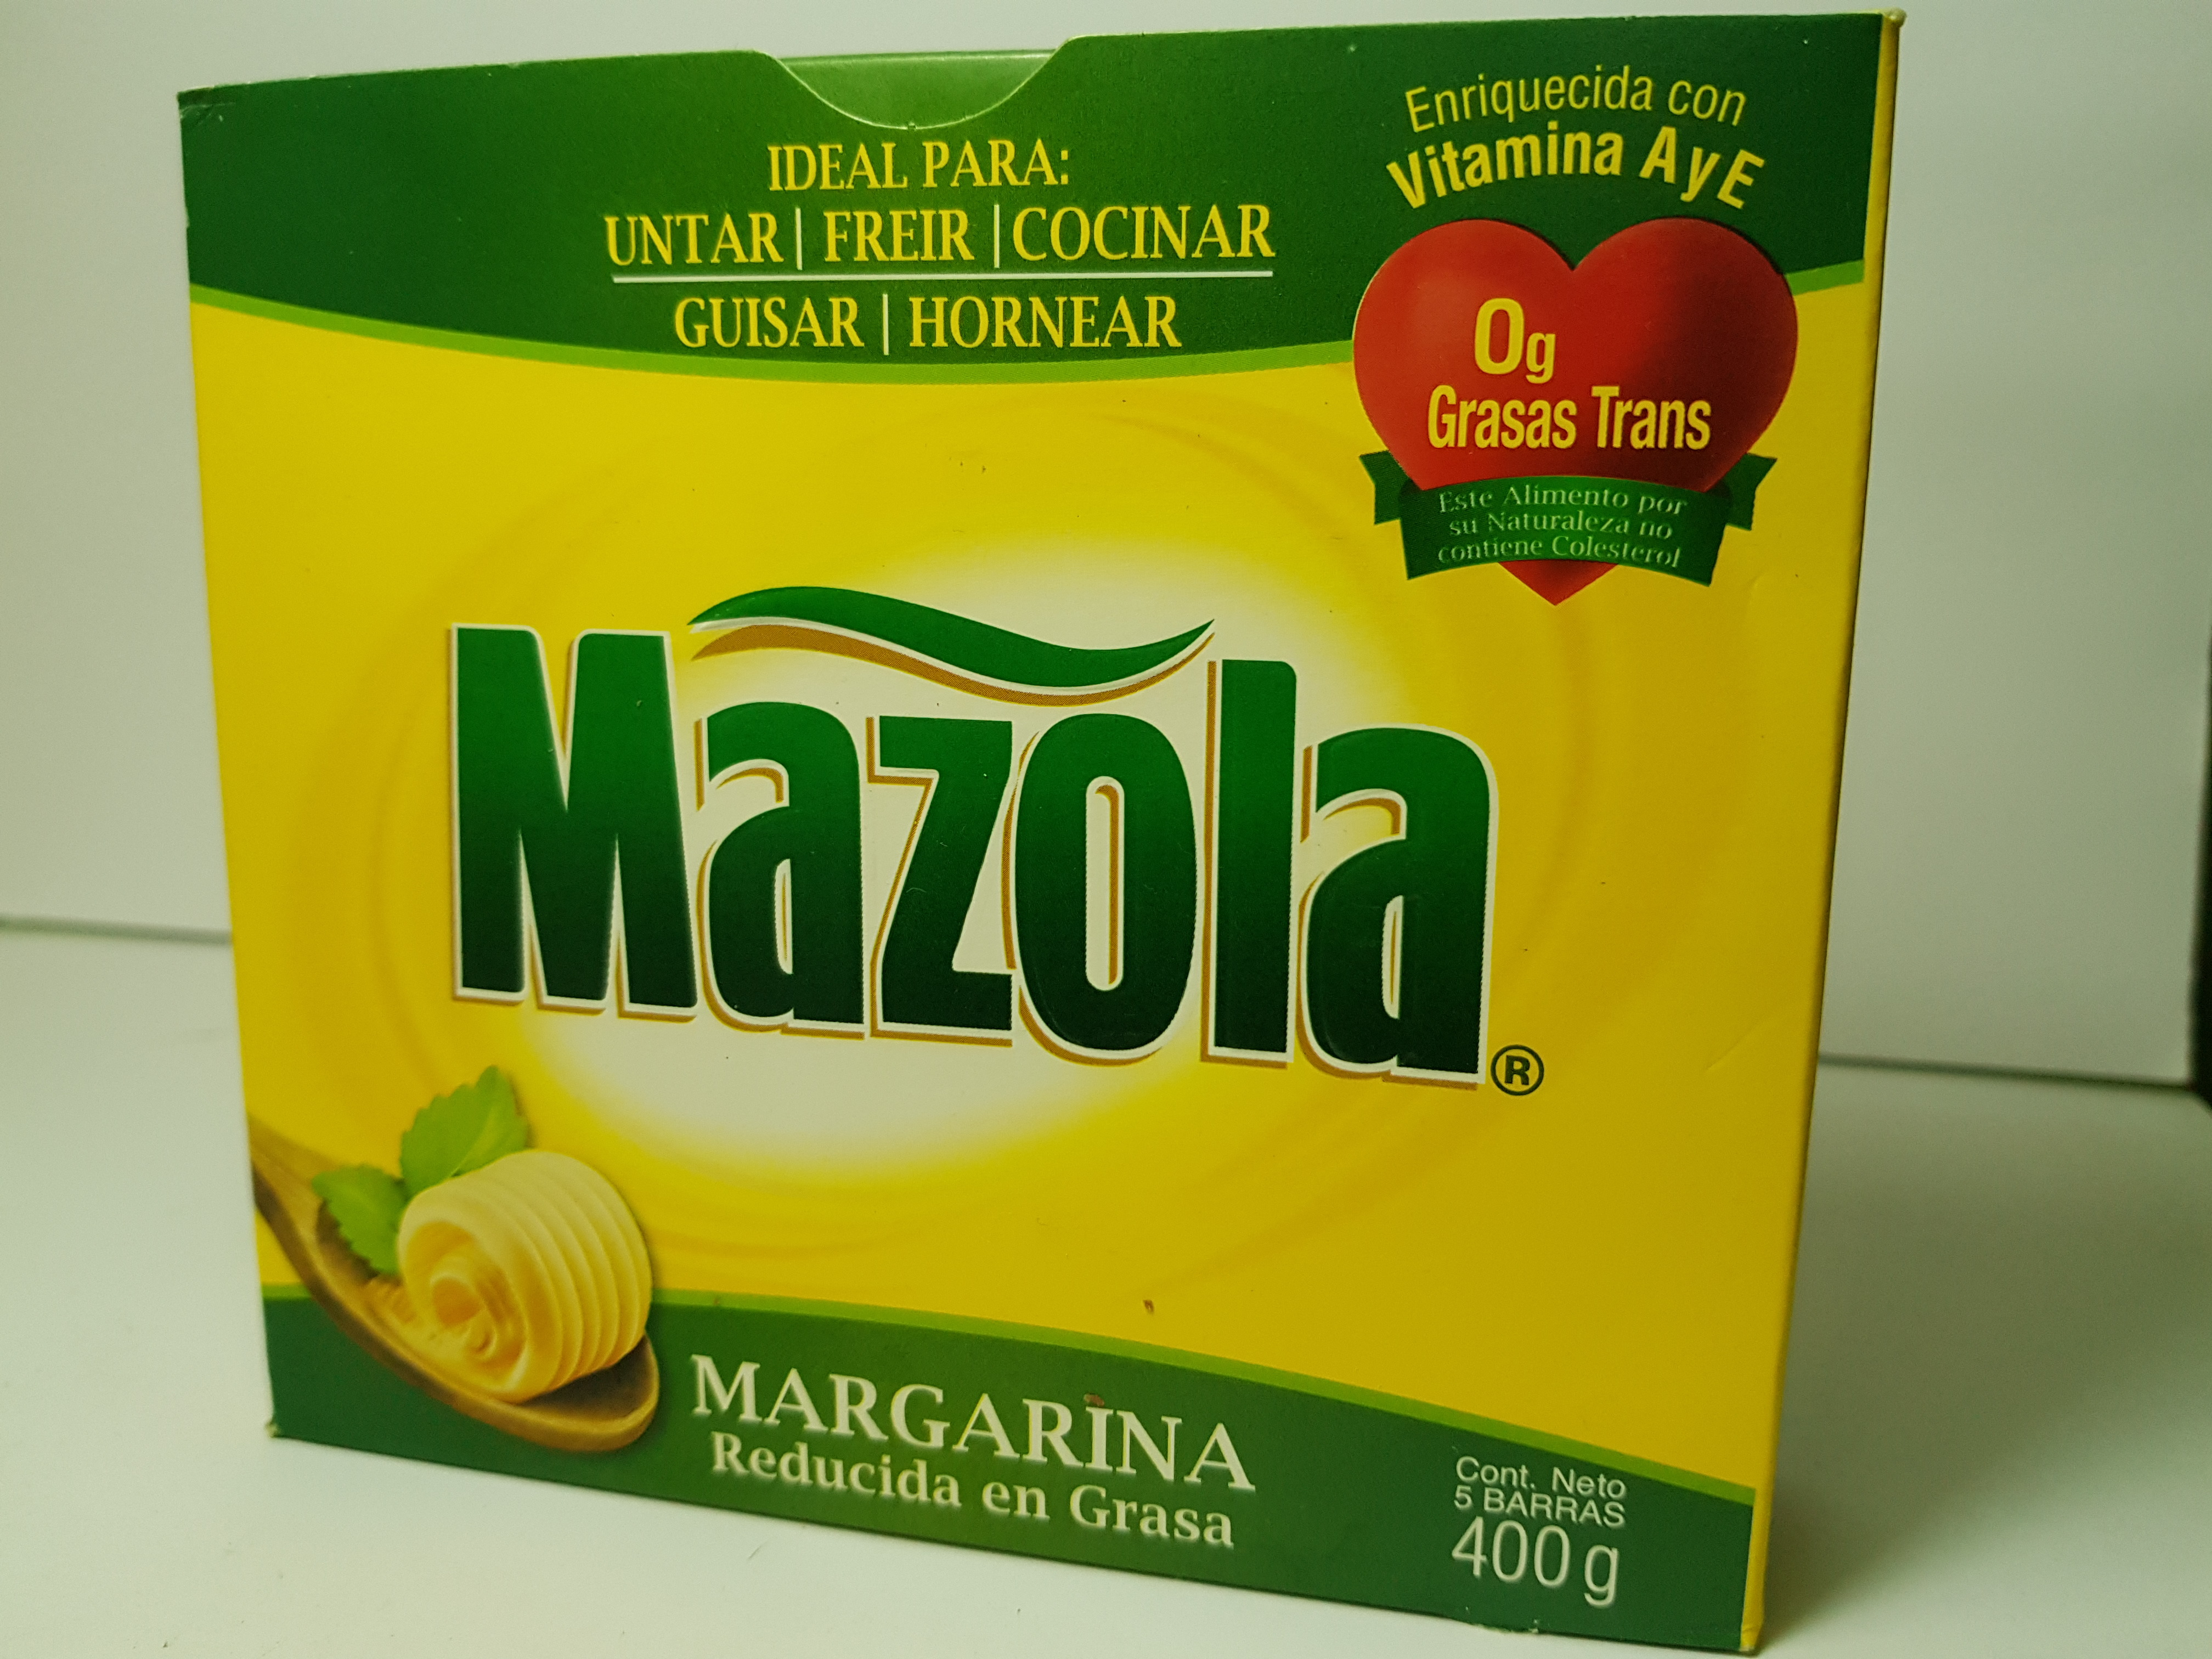mazola: (169, 0, 1885, 1645)
